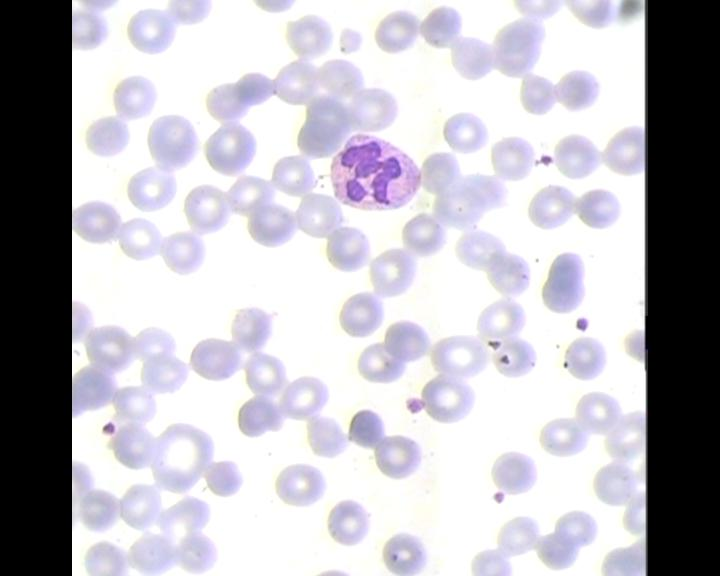neut: (327, 133, 422, 213)
